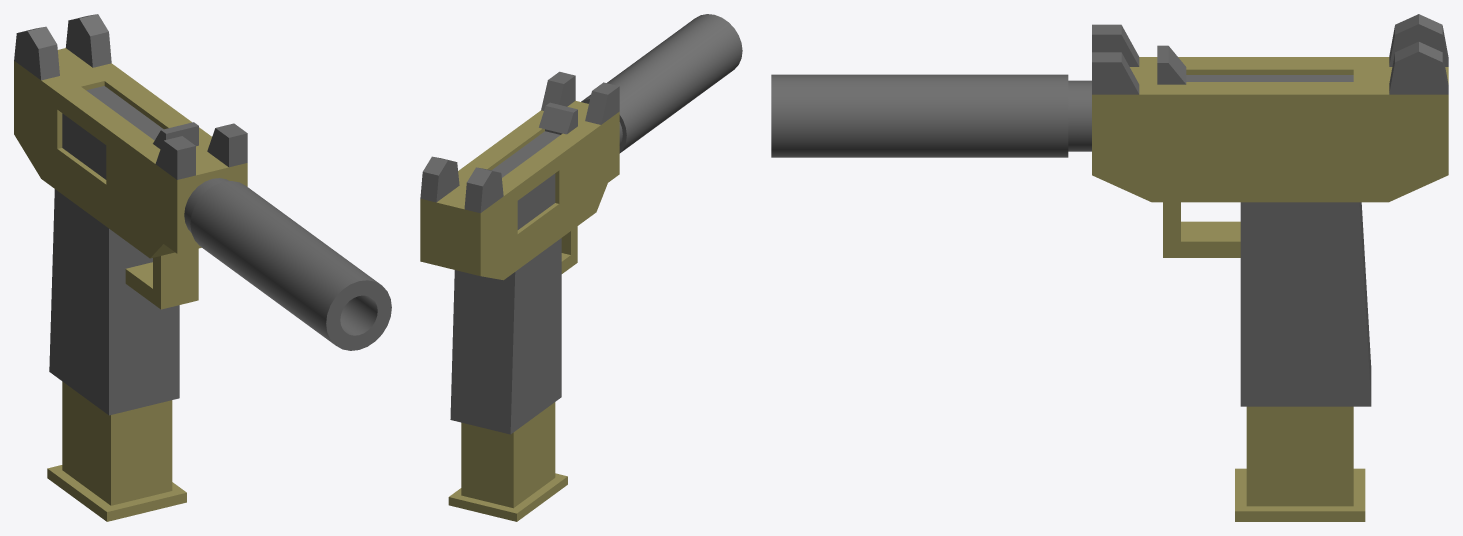
File: uziGoldSilencer.glb
The picture shows the model from 3 angles, left to right: view 1: azimuth 30°, elevation 25°; view 2: azimuth 150°, elevation 25°; view 3: azimuth 270°, elevation 25°; orthographic projection. The views are drawn at different scales.
Visible parts, largest first — view 1: uziGoldSilencer; view 2: uziGoldSilencer; view 3: uziGoldSilencer.
Boxes of the visible parts, box(x1,y1,x2,y2) form: uziGoldSilencer: box(14, 14, 391, 521); uziGoldSilencer: box(420, 14, 742, 521); uziGoldSilencer: box(771, 14, 1448, 521).
Size of the model in its own units: 0.0102 by 0.0522 by 0.0685.
